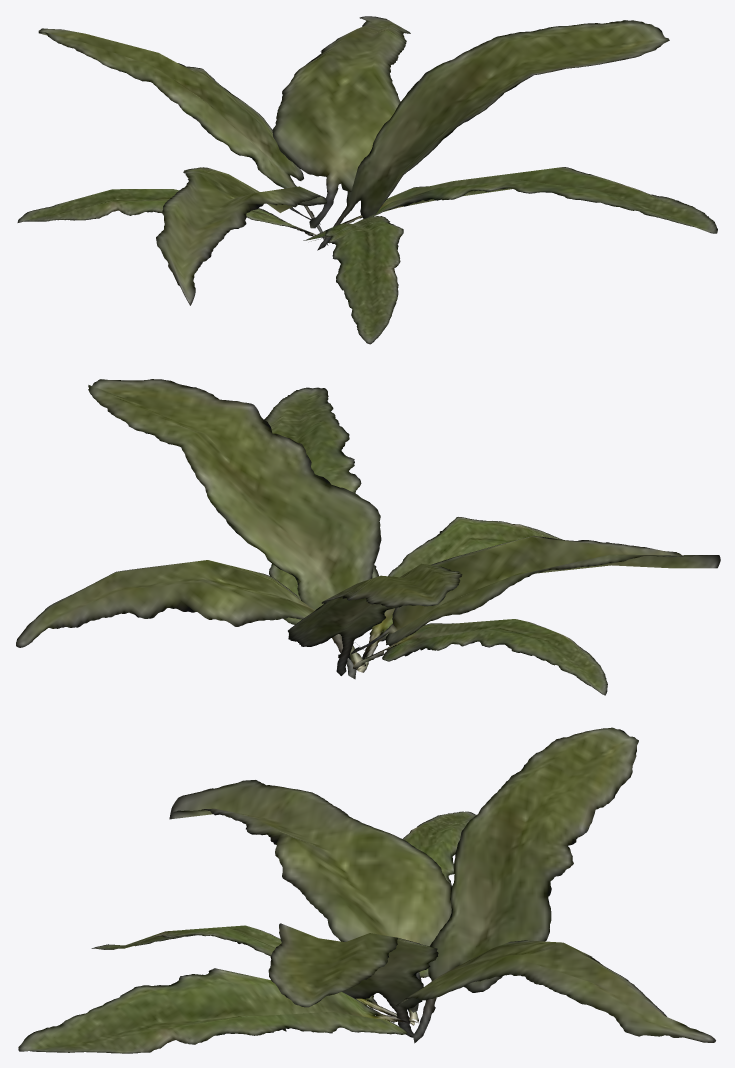
The model's file is flower_gazania.glb.
3 renders of one model, top to bottom at view 1: azimuth 30°, elevation 25°; view 2: azimuth 150°, elevation 25°; view 3: azimuth 270°, elevation 25°, orthographic. The views are drawn at different scales.
Parts seen in each view (by area): view 1: flower_gazania_a_LOD0; view 2: flower_gazania_a_LOD0; view 3: flower_gazania_a_LOD0.
Boxes of the visible parts, x1,y1,x2,y2 form: flower_gazania_a_LOD0: (17,16,717,344); flower_gazania_a_LOD0: (16,379,720,695); flower_gazania_a_LOD0: (18,727,715,1053).
Bounding box in the file's own units: 0.1382 × 0.0445 × 0.1333.
Materials: 1 (1 with a texture image).
